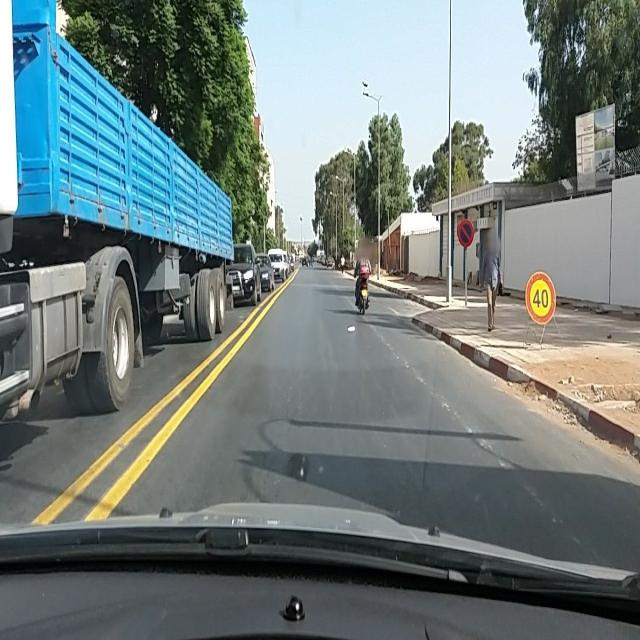forb_stopping: (459, 222, 472, 246)
